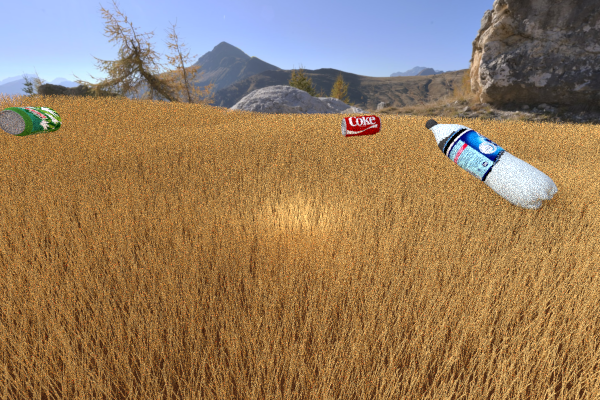Plastic Bottle: (425, 119, 557, 209), (0, 106, 61, 136), (341, 115, 381, 137)
